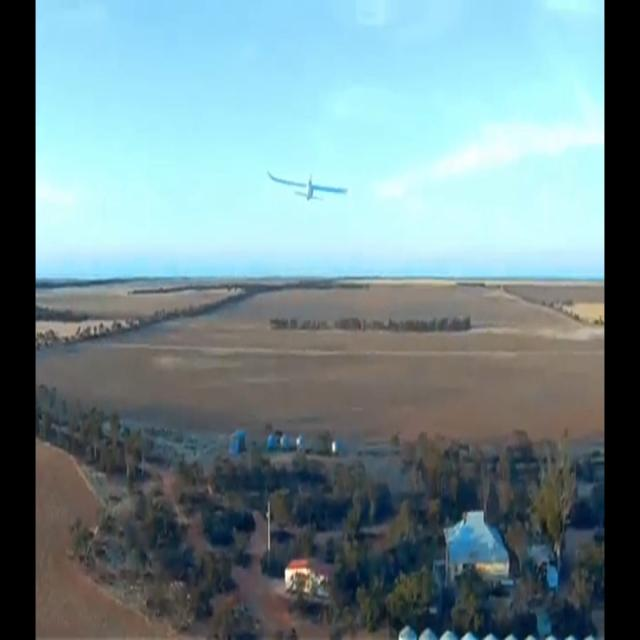iha: (298, 168, 316, 203)
